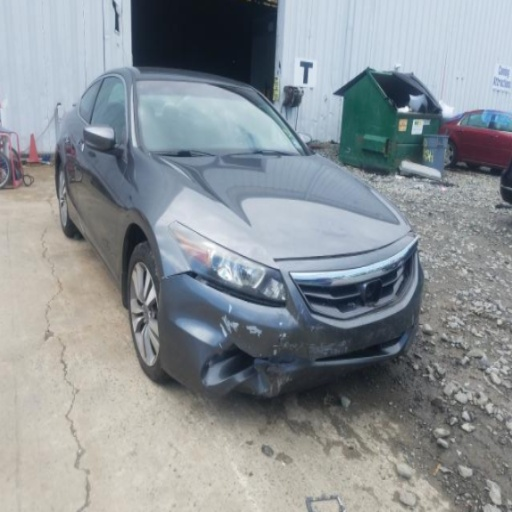scratch: (290, 339, 350, 361), (266, 364, 293, 400), (219, 305, 240, 337), (273, 332, 288, 361), (245, 325, 261, 341), (310, 324, 324, 333), (278, 320, 285, 329), (300, 304, 305, 316), (219, 342, 222, 350)
